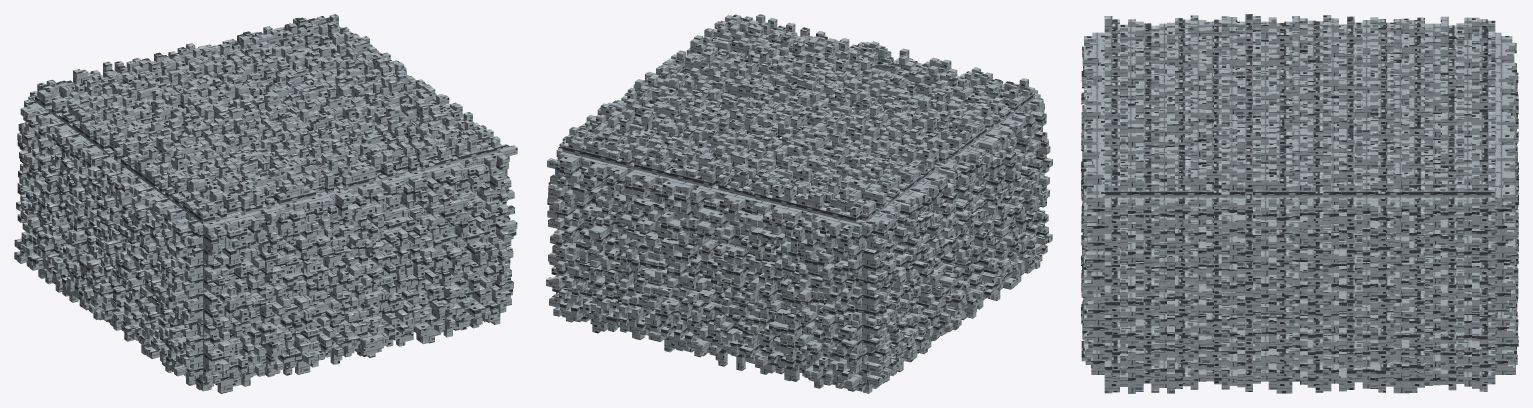
File: futuristic_cube-shaped_cityscape.glb
3 renders of one model, left to right at view 1: azimuth 30°, elevation 25°; view 2: azimuth 150°, elevation 25°; view 3: azimuth 270°, elevation 25°, orthographic. The views are drawn at different scales.
Parts seen in each view (by area): view 1: Box001; view 2: Box001; view 3: Box001.
Boxes of the visible parts, x1,y1,x2,y2 form: Box001: (14, 14, 517, 393); Box001: (546, 14, 1052, 393); Box001: (1081, 14, 1518, 393).
Size of the model in its own units: 1.42 by 0.7873 by 1.42.
1 material, 1 textured.
